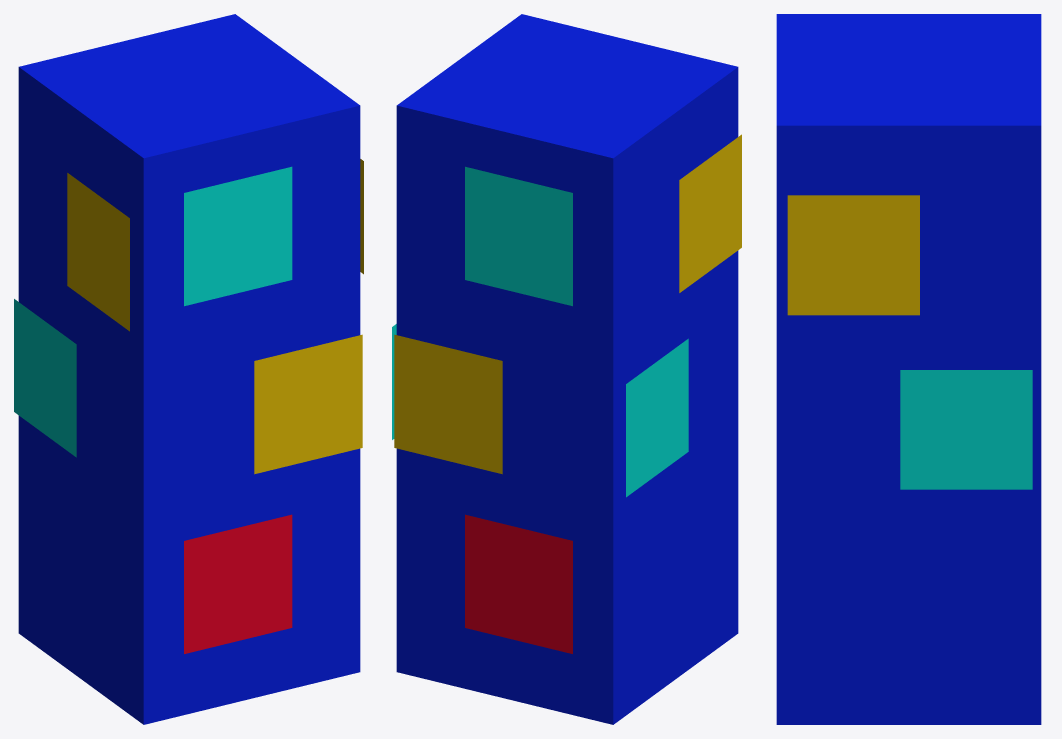
The model's file is Building.fbx.
3 views of the same model, side by side, from view 1: azimuth 30°, elevation 25°; view 2: azimuth 150°, elevation 25°; view 3: azimuth 270°, elevation 25° (orthographic). The views are drawn at different scales.
Visible parts, largest first — view 1: Cube, Plane.002, Plane.003, Plane.004, Plane.001, Plane; view 2: Cube, Plane.002, Plane.003, Plane.004, Plane, Plane.001; view 3: Cube, Plane.001, Plane.
Part boxes in pixels (left/top/right/bottom): Cube: left=18, top=14, right=360, bottom=724; Plane.002: left=254, top=334, right=362, bottom=474; Plane.003: left=184, top=166, right=292, bottom=306; Plane.004: left=184, top=514, right=292, bottom=653; Plane.001: left=67, top=159, right=363, bottom=331; Plane: left=14, top=299, right=76, bottom=457; Cube: left=396, top=14, right=738, bottom=724; Plane.002: left=394, top=334, right=502, bottom=474; Plane.003: left=465, top=166, right=572, bottom=306; Plane.004: left=465, top=514, right=572, bottom=653; Plane: left=392, top=324, right=688, bottom=497; Plane.001: left=679, top=134, right=741, bottom=292; Cube: left=776, top=14, right=1041, bottom=724; Plane.001: left=787, top=195, right=919, bottom=315; Plane: left=900, top=370, right=1032, bottom=489.
Size of the model in its own units: 216 by 500 by 210.
